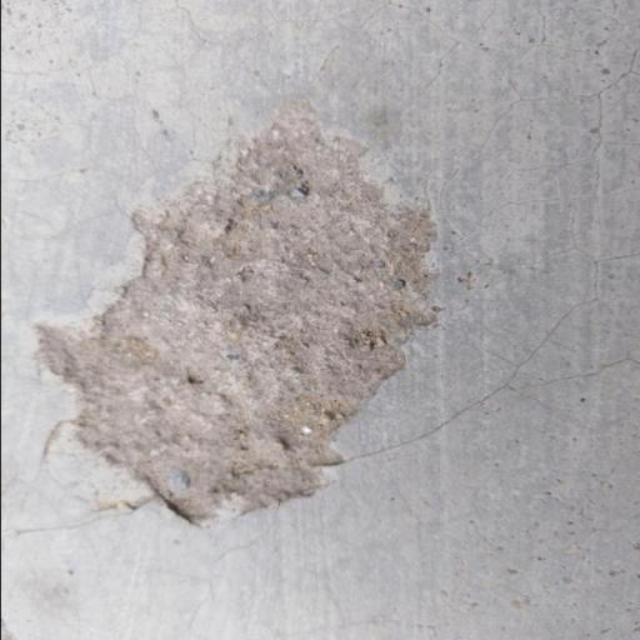D10: (34, 102, 442, 529)
